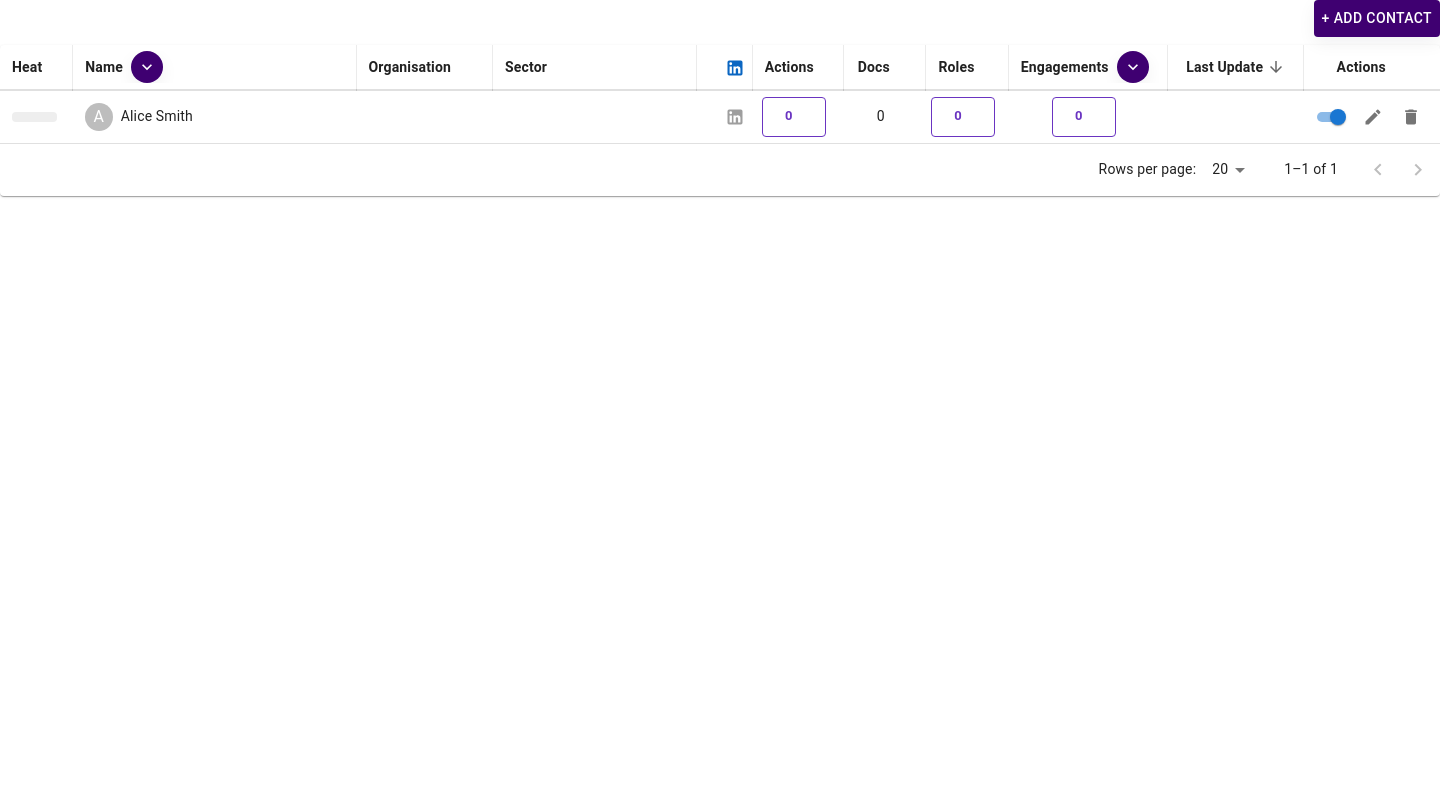
Test: ContactsTable delete flow › deletes contact after confirmation
Expected: the text "Alice Smith" is shown, top-left (121, 106), bottom-right (193, 126)
Click the button named "Delete contact 10": (1411,116) top-left (1396, 102), bottom-right (1426, 132)
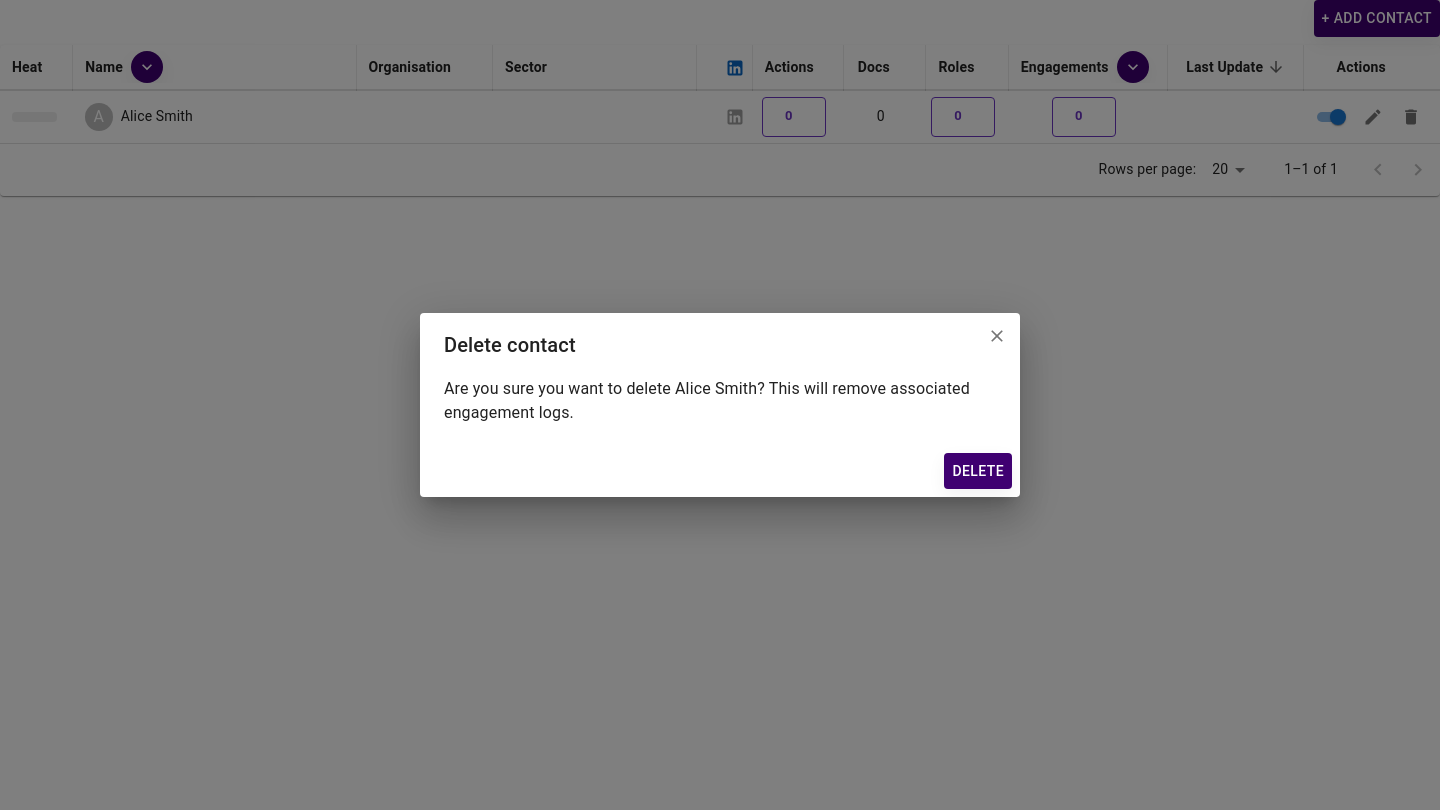
Now the heading "Delete contact" is shown, box top-left (444, 333), bottom-right (576, 357)
Click the button "Delete": (978,471) top-left (944, 453), bottom-right (1012, 489)
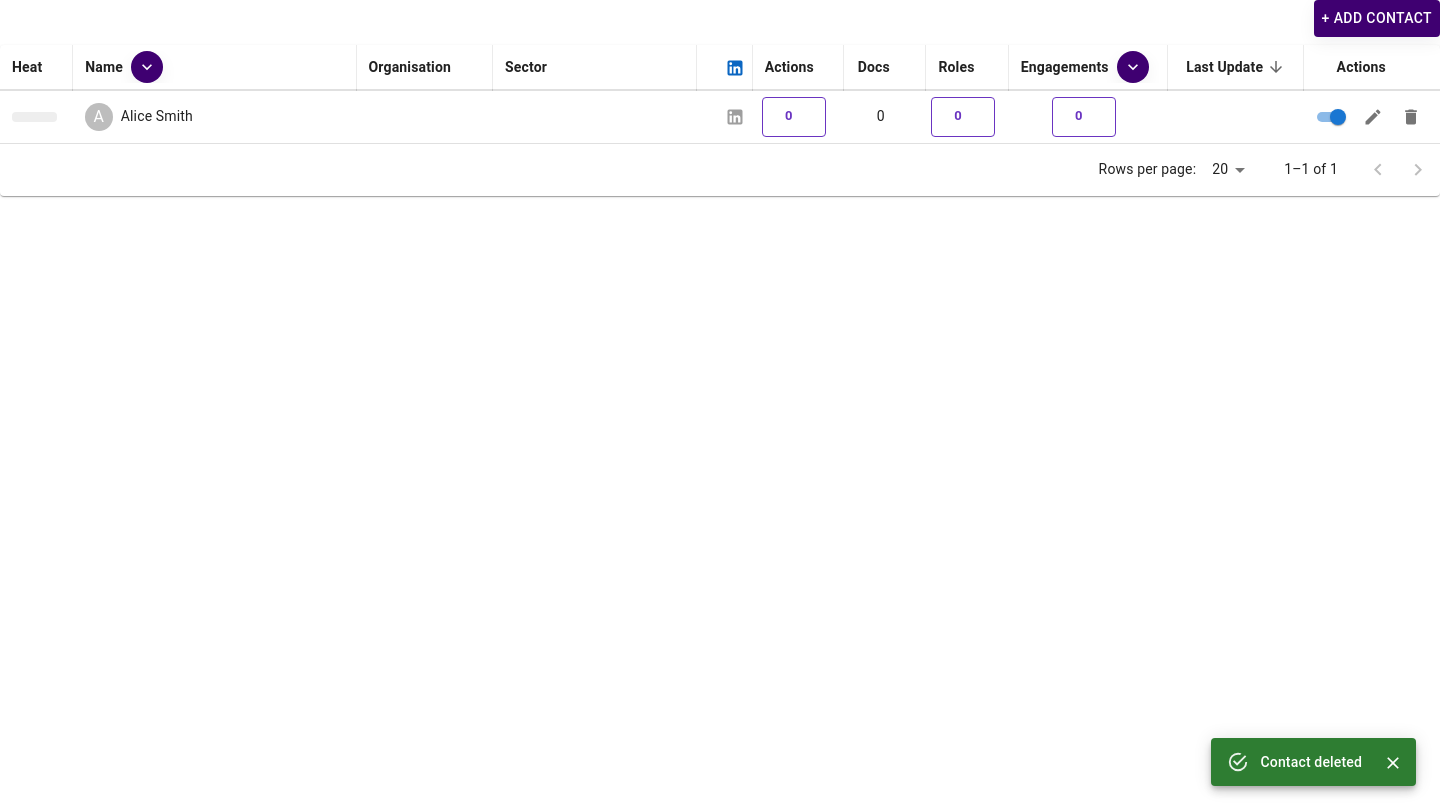
Now the text "Contact deleted" is shown, box top-left (1260, 754), bottom-right (1362, 770)
